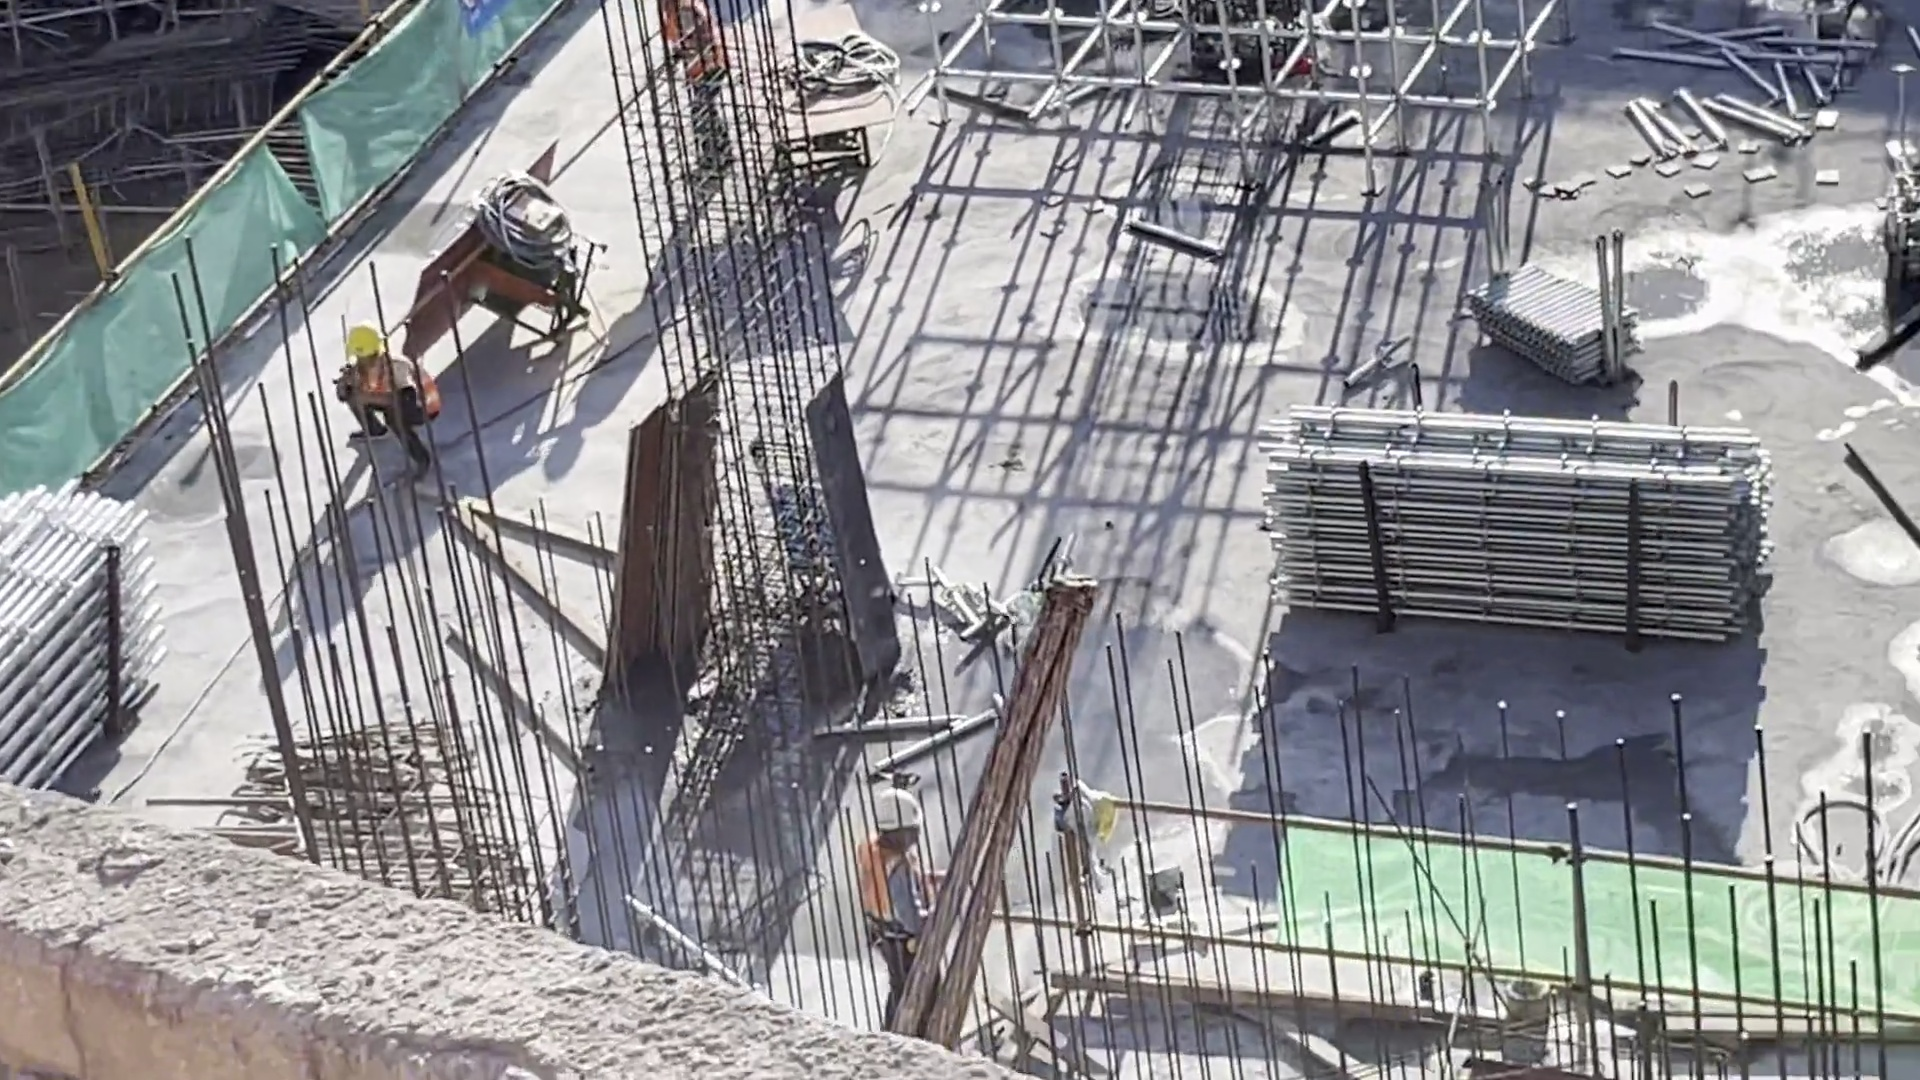cutter: (398, 190, 616, 345), (780, 62, 879, 186)
helmet: (869, 791, 924, 837), (340, 322, 382, 350)
person: (845, 790, 962, 1039), (332, 318, 443, 491), (646, 1, 755, 171)
scaffold: (1245, 405, 1763, 653), (1, 489, 169, 784), (1473, 236, 1632, 370)
slogan: (460, 1, 509, 28)
vest: (855, 853, 930, 945), (358, 364, 440, 421), (667, 10, 723, 81)
